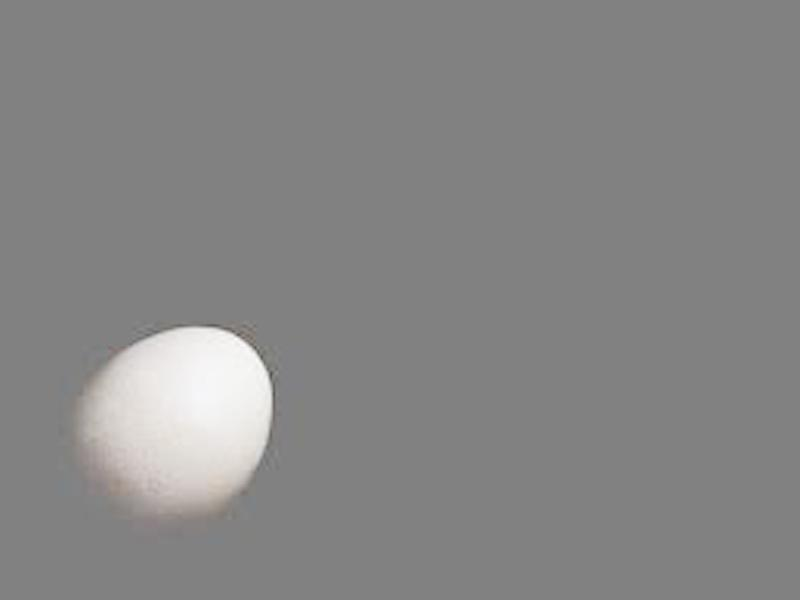Eggs: (67, 325, 271, 523)
